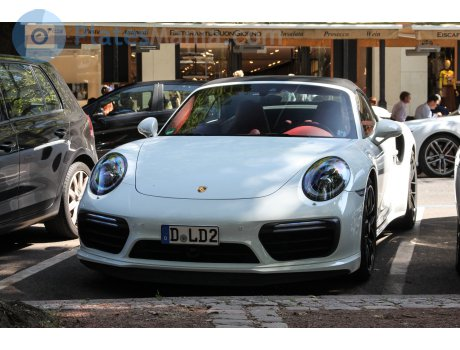License Plates: (164, 222, 212, 244)
